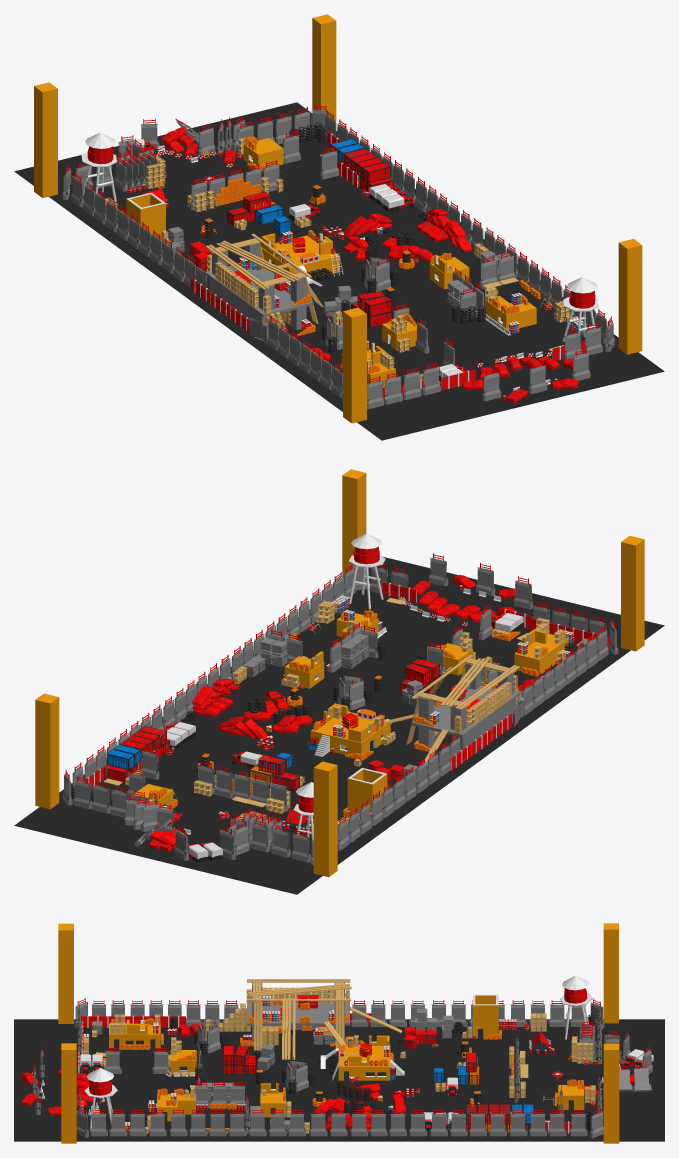
The model's file is map_yard.glb.
3 views of the same model, one above another, from view 1: azimuth 30°, elevation 25°; view 2: azimuth 150°, elevation 25°; view 3: azimuth 270°, elevation 25° (orthographic). The views are drawn at different scales.
Parts seen in each view (by area): view 1: Map_PLANE, Map_D-W-50, Map_YELLOW, Map_material, Map_WOOD, Map_WHITE-EF, Map_DARK-2, Map_ORANGE, Map_BLUE; view 2: Map_PLANE, Map_D-W-50, Map_YELLOW, Map_material, Map_WOOD, Map_WHITE-EF, Map_DARK-2, Map_ORANGE, Map_BLUE; view 3: Map_PLANE, Map_D-W-50, Map_YELLOW, Map_material, Map_WOOD, Map_DARK-2, Map_WHITE-EF, Map_ORANGE, Map_BLUE, Map_DARK.
Part boxes in pixels (x1,y1,x2,y2): Map_PLANE: [14, 102, 664, 440]; Map_D-W-50: [62, 109, 614, 409]; Map_YELLOW: [34, 14, 642, 423]; Map_material: [65, 104, 611, 403]; Map_WOOD: [105, 137, 572, 380]; Map_WHITE-EF: [81, 132, 598, 399]; Map_DARK-2: [69, 122, 551, 383]; Map_ORANGE: [157, 136, 586, 383]; Map_BLUE: [242, 139, 583, 333]; Map_PLANE: [14, 556, 664, 894]; Map_D-W-50: [62, 557, 618, 864]; Map_YELLOW: [35, 469, 644, 877]; Map_material: [65, 546, 615, 858]; Map_WOOD: [103, 598, 584, 825]; Map_WHITE-EF: [83, 533, 594, 859]; Map_DARK-2: [71, 596, 573, 861]; Map_ORANGE: [133, 597, 568, 817]; Map_BLUE: [107, 597, 571, 779]; Map_PLANE: [14, 1019, 664, 1141]; Map_D-W-50: [32, 982, 652, 1138]; Map_YELLOW: [58, 923, 619, 1143]; Map_material: [20, 988, 652, 1133]; Map_WOOD: [83, 979, 595, 1133]; Map_DARK-2: [80, 1014, 651, 1133]; Map_WHITE-EF: [31, 976, 653, 1133]; Map_ORANGE: [83, 997, 583, 1133]; Map_BLUE: [84, 997, 533, 1124]; Map_DARK: [80, 1015, 653, 1130].
Bounding box in the file's own units: 63.88 × 23.14 × 139.
